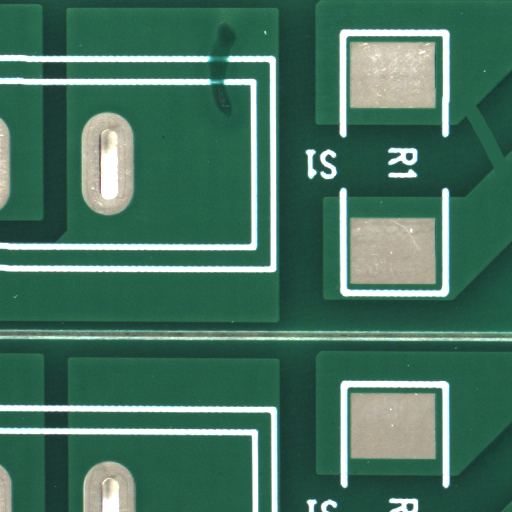Short: (483, 141, 512, 216)
